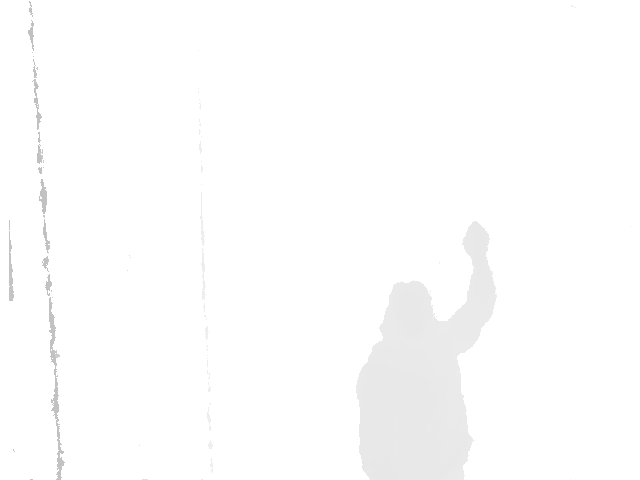hand: (461, 220, 490, 263)
head: (381, 280, 440, 339)
person: (356, 220, 496, 480)
